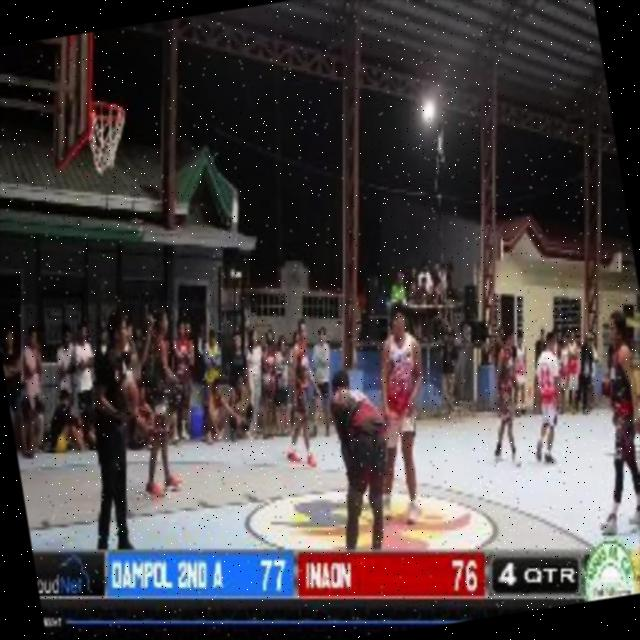ball: (108, 371, 148, 426)
